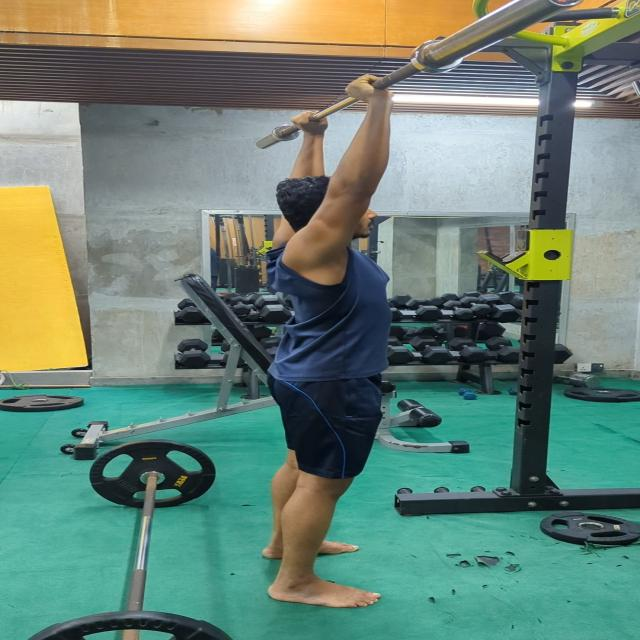Normal_OverheadPress: (219, 65, 442, 618)
